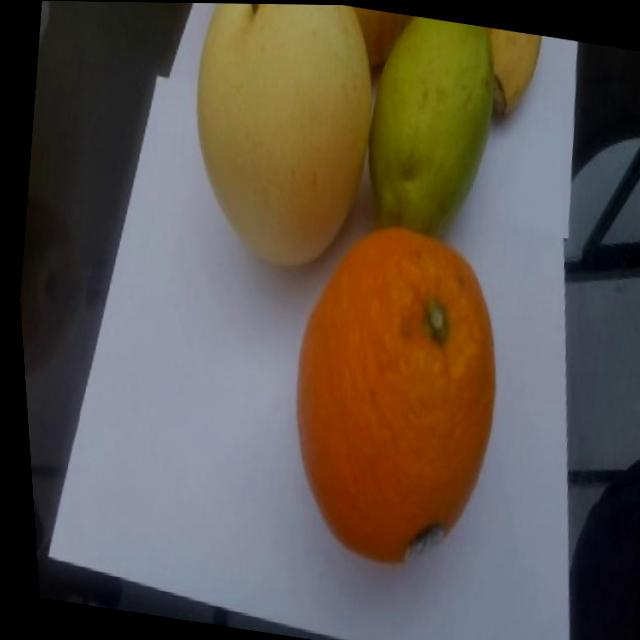Banana: (462, 24, 552, 128)
Orange: (254, 207, 528, 590)
